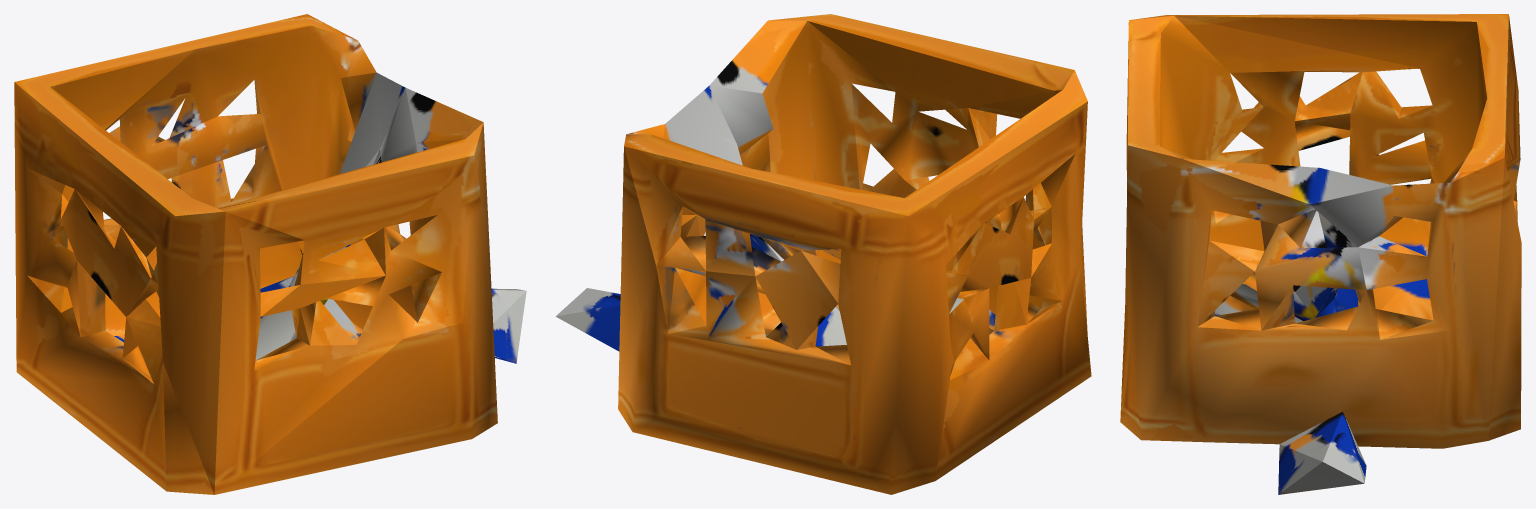
Rendered from milk-crate-broken.glb.
3 renders of one model, left to right at view 1: azimuth 30°, elevation 25°; view 2: azimuth 150°, elevation 25°; view 3: azimuth 270°, elevation 25°, orthographic.
Parts seen in each view (by area): view 1: geometry_0.001; view 2: geometry_0.001; view 3: geometry_0.001.
Part boxes in pixels (x1=…): geometry_0.001: x1=14, y1=14, x2=526, y2=494; geometry_0.001: x1=555, y1=14, x2=1091, y2=494; geometry_0.001: x1=1120, y1=14, x2=1521, y2=494.
Bounding box in the file's own units: 1.01 × 0.6406 × 0.7853.
Materials: 1 (1 with a texture image).
